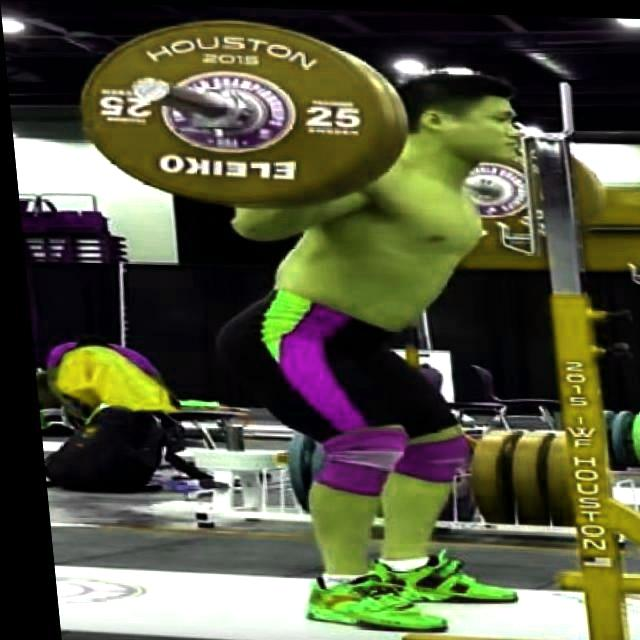barbell: (60, 10, 405, 212)
